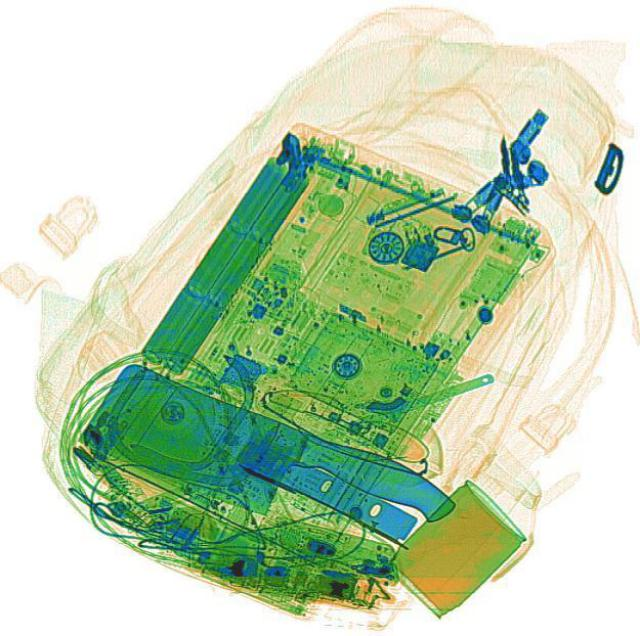Knife: (76, 346, 462, 583)
